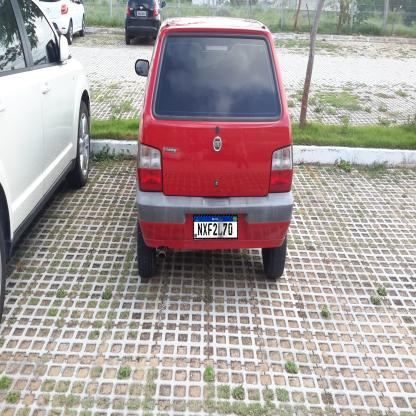PlacaM: (193, 215, 238, 239)
